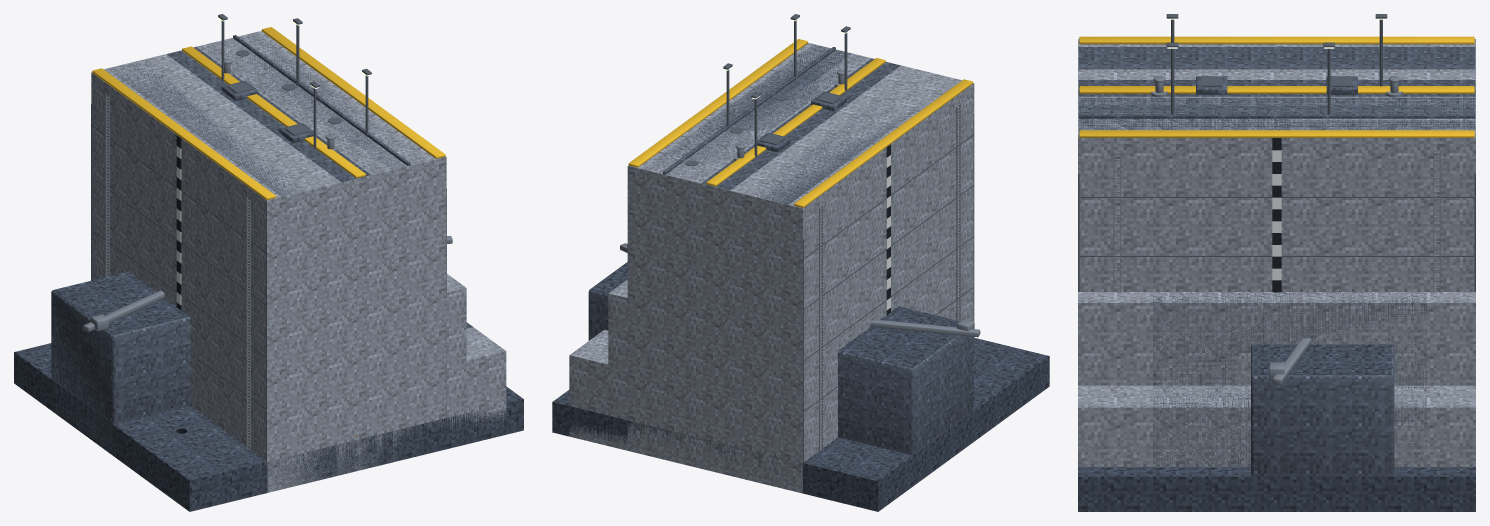
The model's file is lock_structure.glb.
3 renders of one model, left to right at view 1: azimuth 30°, elevation 25°; view 2: azimuth 150°, elevation 25°; view 3: azimuth 270°, elevation 25°, orthographic. The views are drawn at different scales.
Parts seen in each view (by area): view 1: wall_center_a_mesh, chamber_floor_a_mesh, wall_side_a_mesh, chamber_sill_mesh, wall_center_b_mesh, chamber_floor_b_mesh, wall_side_gate_mesh, wall_side_c_mesh; view 2: wall_center_a_mesh, chamber_sill_mesh, chamber_floor_a_mesh, wall_side_a_mesh, wall_center_b_mesh, chamber_floor_b_mesh, wall_side_c_mesh; view 3: wall_center_a_mesh, wall_side_a_mesh, wall_side_gate_mesh, chamber_sill_mesh, chamber_floor_a_mesh, wall_center_b_mesh, chamber_floor_b_mesh, wall_side_c_mesh.
Boxes of the visible parts, x1,y1,x2,y2 form: wall_center_a_mesh: (91,27,446,492); chamber_floor_a_mesh: (14,343,523,511); wall_side_a_mesh: (182,35,506,439); chamber_sill_mesh: (51,236,452,451); wall_center_b_mesh: (105,14,319,450); chamber_floor_b_mesh: (16,344,522,480); wall_side_gate_mesh: (201,42,504,359); wall_side_c_mesh: (224,18,341,151); wall_center_a_mesh: (627,39,974,493); chamber_sill_mesh: (588,243,980,455); chamber_floor_a_mesh: (552,338,1049,511); wall_side_a_mesh: (569,47,885,450); wall_center_b_mesh: (751,26,960,452); chamber_floor_b_mesh: (553,338,1048,480); wall_side_c_mesh: (685,63,844,166); wall_center_a_mesh: (1078,36,1475,291); wall_side_a_mesh: (1078,86,1475,466); wall_side_gate_mesh: (1078,95,1475,466); chamber_sill_mesh: (1251,338,1394,508); chamber_floor_a_mesh: (1078,467,1475,511); wall_center_b_mesh: (1113,14,1440,292); chamber_floor_b_mesh: (1078,467,1475,476); wall_side_c_mesh: (1151,42,1441,114).
Size of the model in its own units: 36.86 by 34.2 by 30.5.
15 materials, 4 textured.
